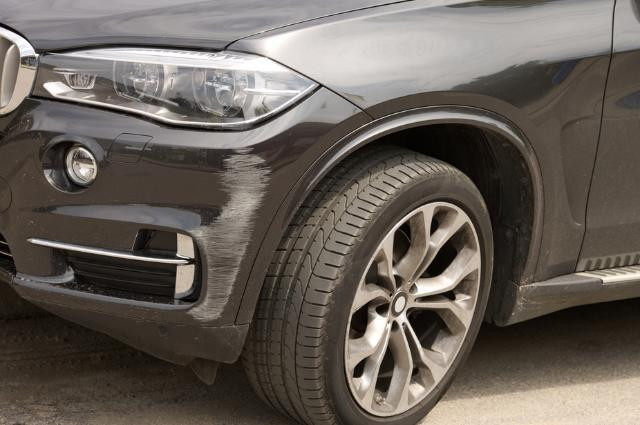Bumper: (82, 85, 371, 368)
